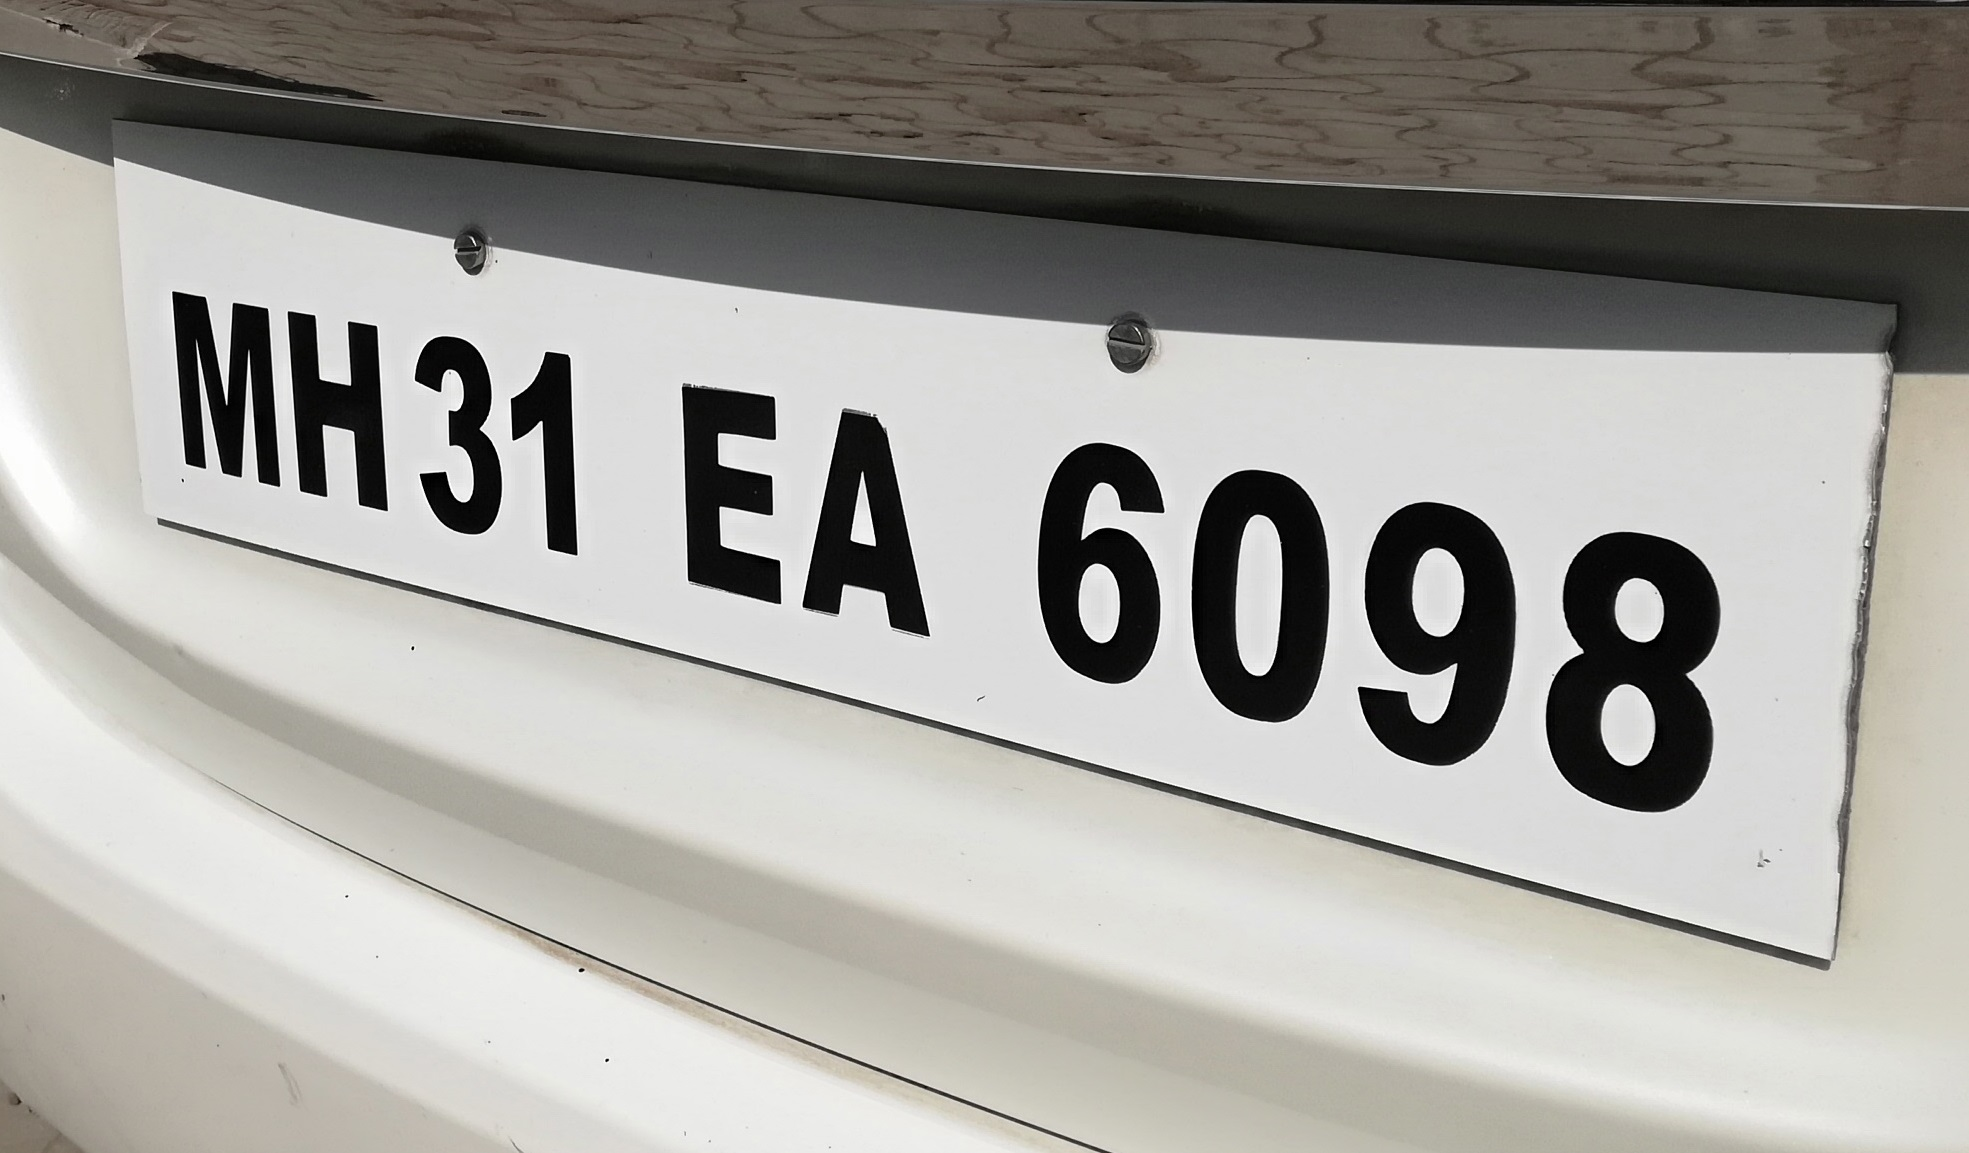numberplate: (98, 110, 1898, 979)
